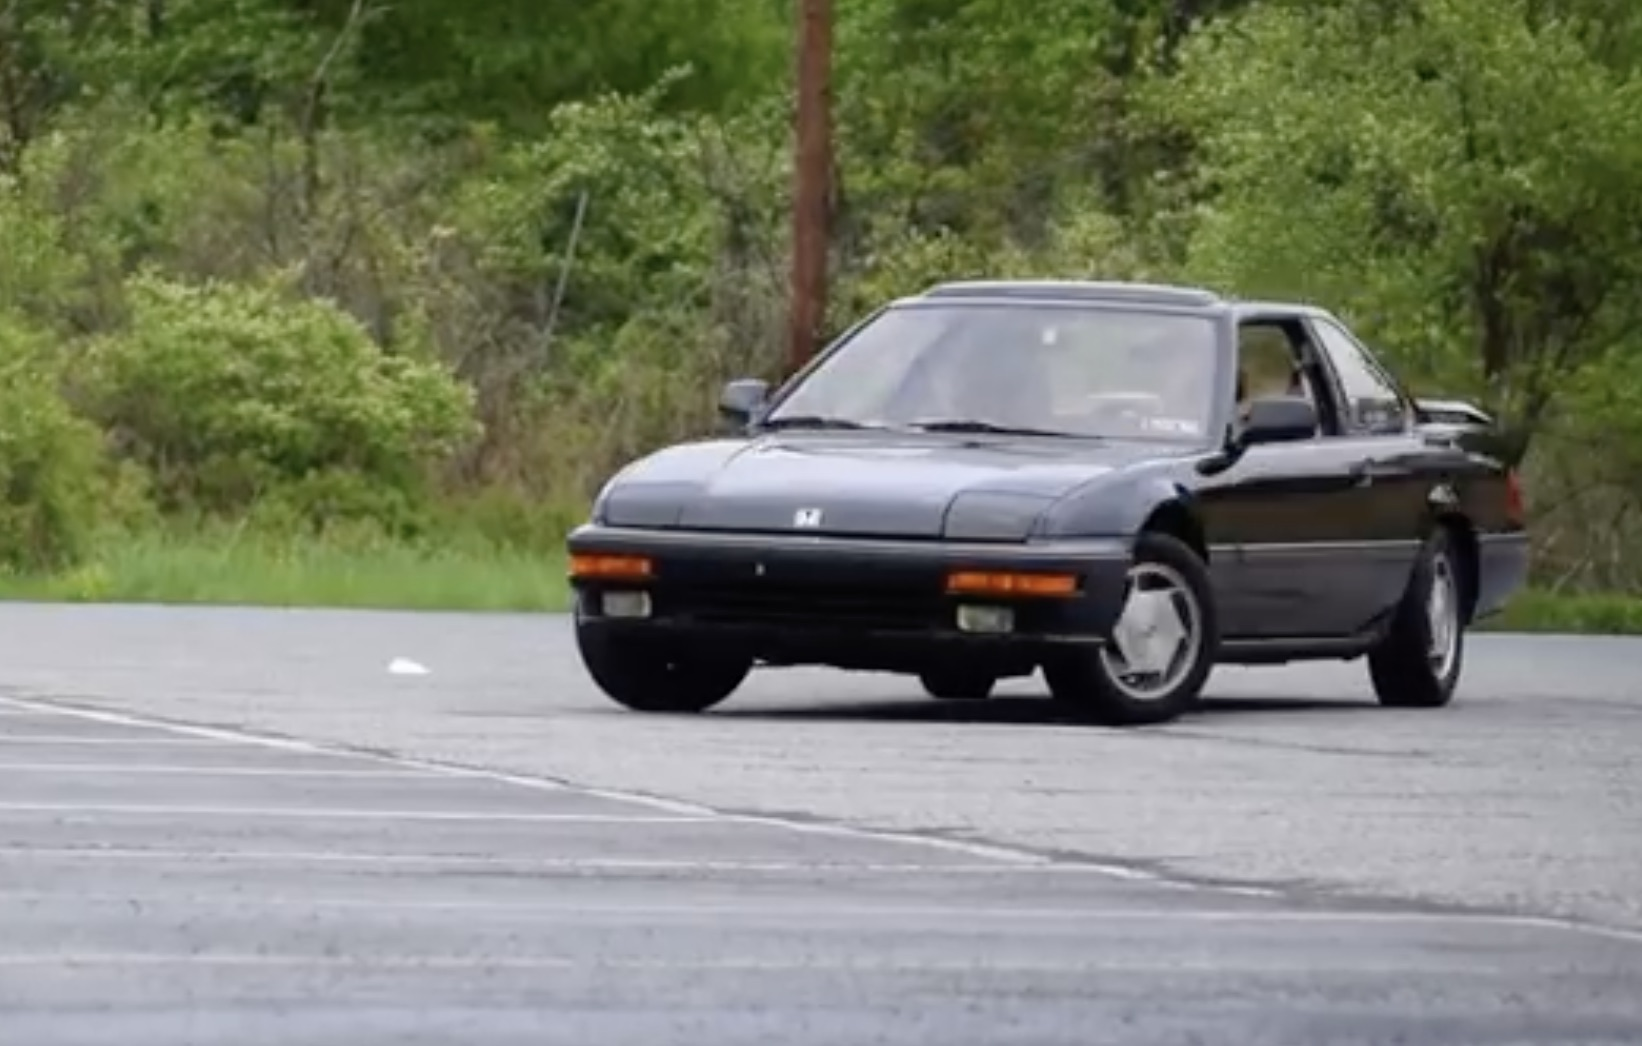car: (543, 267, 1538, 735)
